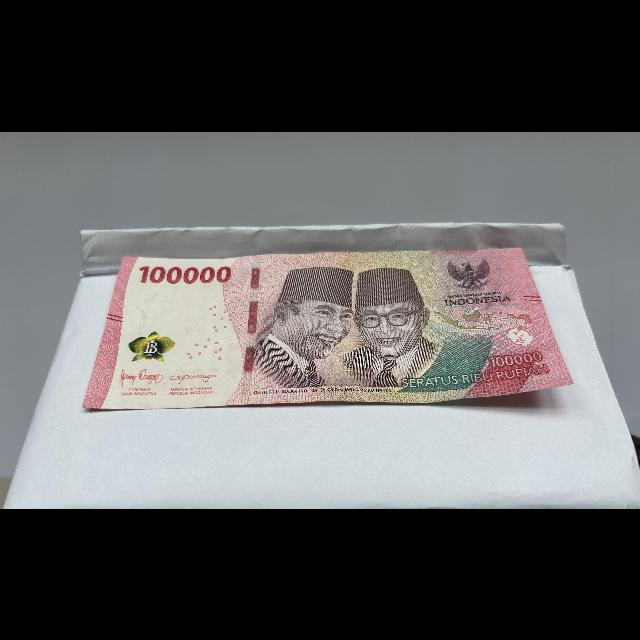Asli-100k: (74, 243, 584, 412)
Tinta-Asli-100k: (123, 329, 179, 363)
